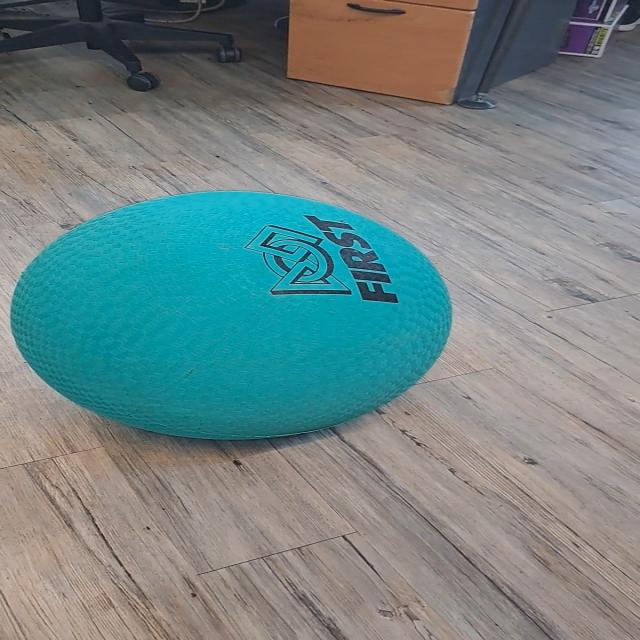ALGAE: (8, 189, 454, 441)
